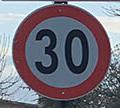30 Km Hiz Siniri: (12, 4, 111, 103)
